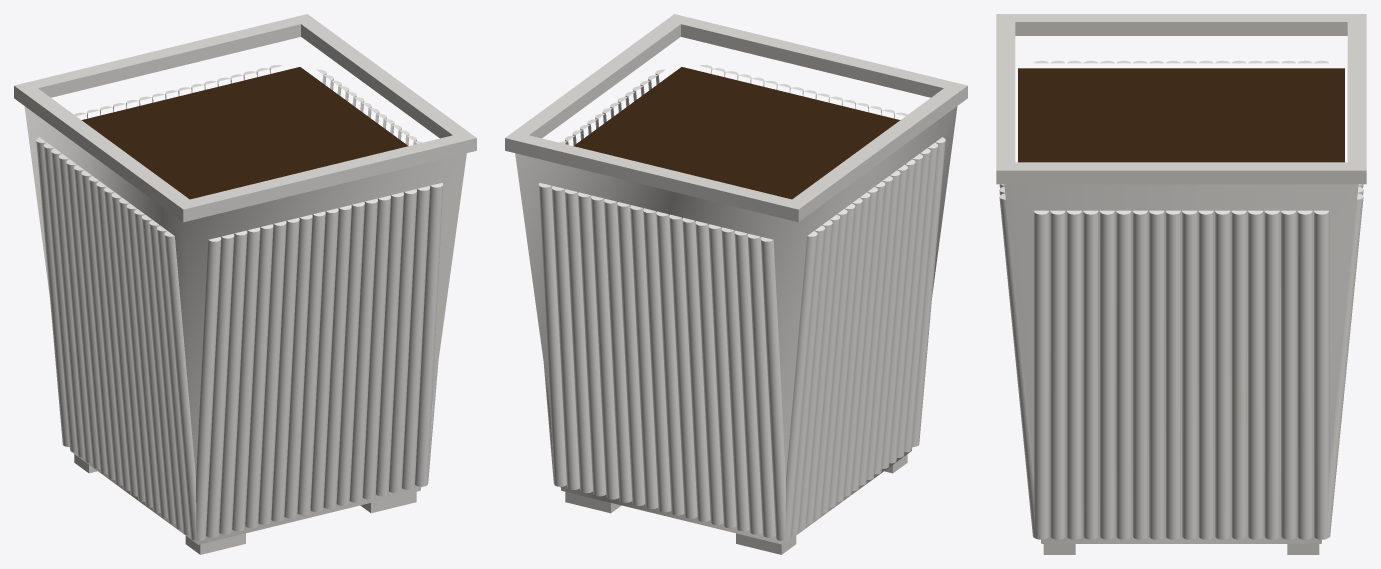
3 views of the same model, side by side, from view 1: azimuth 30°, elevation 25°; view 2: azimuth 150°, elevation 25°; view 3: azimuth 270°, elevation 25° (orthographic). The views are drawn at different scales.
Parts seen in each view (by area): view 1: soil, shell, rim-top-f, rim-top-b, flute-0-3, flute-0-6, flute-0-7, flute-0-8, flute-0-9, flute-0-10, flute-0-2, flute-0-4 (+36 smaller); view 2: soil, shell, rim-top-b, rim-top-f, flute-1-14, flute-1-8, flute-1-9, flute-1-10, flute-1-11, flute-1-7, flute-1-5, flute-1-6 (+36 smaller); view 3: soil, shell, flute-2-1, flute-2-2, flute-2-3, flute-2-5, flute-2-7, flute-2-8, flute-2-9, flute-2-10, flute-2-12, flute-2-14 (+16 smaller).
Part boxes in pixels (<box>): soil: <box>81,67,408,199</box>; shell: <box>24,106,466,544</box>; rim-top-f: <box>174,131,476,215</box>; rim-top-b: <box>14,14,315,97</box>; flute-0-3: <box>232,227,260,531</box>; flute-0-6: <box>271,218,299,521</box>; flute-0-7: <box>284,214,312,518</box>; flute-0-8: <box>297,211,325,515</box>; flute-0-9: <box>310,208,338,512</box>; flute-0-10: <box>323,205,351,509</box>; flute-0-2: <box>219,230,247,534</box>; flute-0-4: <box>245,224,273,528</box>; soil: <box>573,67,900,199</box>; shell: <box>515,106,957,544</box>; rim-top-b: <box>505,131,807,215</box>; rim-top-f: <box>666,14,967,97</box>; flute-1-14: <box>721,227,749,531</box>; flute-1-8: <box>643,208,671,512</box>; flute-1-9: <box>656,211,684,515</box>; flute-1-10: <box>669,214,697,518</box>; flute-1-11: <box>682,218,710,521</box>; flute-1-7: <box>630,205,658,509</box>; flute-1-5: <box>604,198,632,502</box>; flute-1-6: <box>617,202,645,505</box>; soil: <box>1018,68,1344,162</box>; shell: <box>1004,184,1358,543</box>; flute-2-1: <box>1050,210,1065,539</box>; flute-2-2: <box>1066,210,1081,539</box>; flute-2-3: <box>1083,210,1098,539</box>; flute-2-5: <box>1116,210,1131,539</box>; flute-2-7: <box>1149,210,1164,539</box>; flute-2-8: <box>1165,210,1180,539</box>; flute-2-9: <box>1182,210,1197,539</box>; flute-2-10: <box>1198,210,1213,539</box>; flute-2-12: <box>1231,210,1246,539</box>; flute-2-14: <box>1264,210,1279,539</box>.
Bounding box in the file's own units: 0.58 × 0.7 × 0.58.
